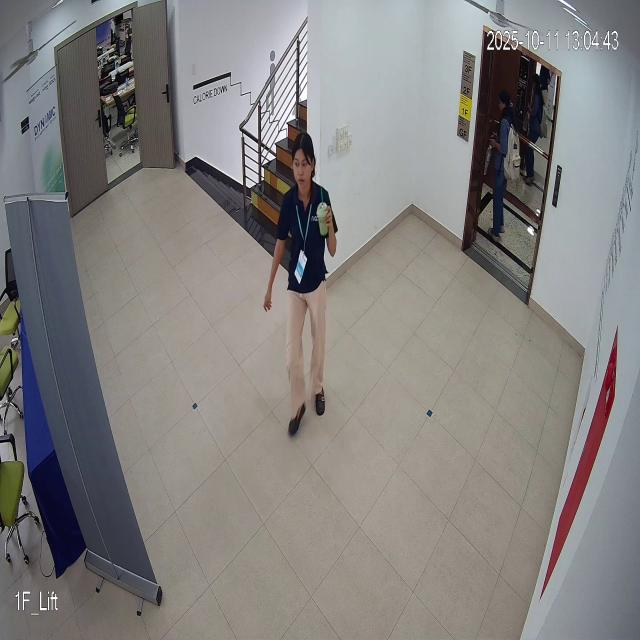face: (289, 132, 319, 197)
